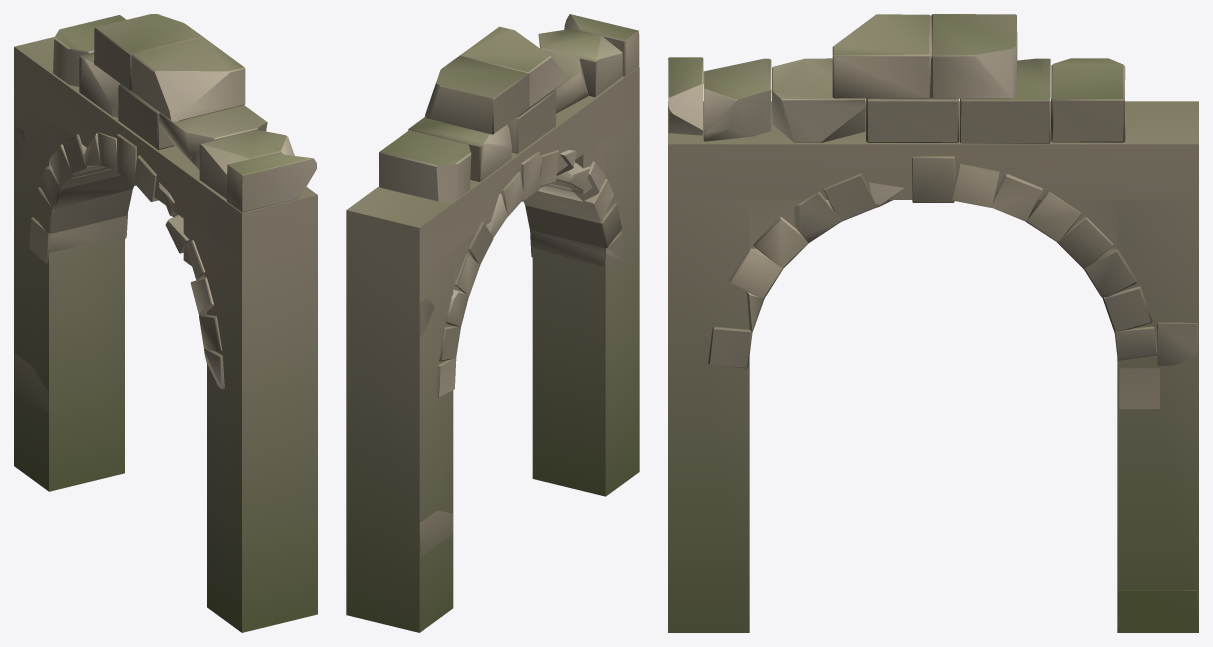
File: theatre_side_arch.glb
The picture shows the model from 3 angles, left to right: view 1: azimuth 30°, elevation 25°; view 2: azimuth 150°, elevation 25°; view 3: azimuth 270°, elevation 25°; orthographic projection. The views are drawn at different scales.
Parts seen in each view (by area): view 1: theatre_side_arch_far, theatre_side_arch; view 2: theatre_side_arch_far, theatre_side_arch; view 3: theatre_side_arch_far, theatre_side_arch.
Part boxes in pixels (x1,y1,x2,y2): theatre_side_arch_far: (14,37,317,632); theatre_side_arch: (14,14,316,413); theatre_side_arch_far: (346,67,639,632); theatre_side_arch: (379,14,639,557); theatre_side_arch_far: (668,101,1198,632); theatre_side_arch: (668,14,1197,631).
Bounding box in the file's own units: 5.32 × 31.2 × 26.
